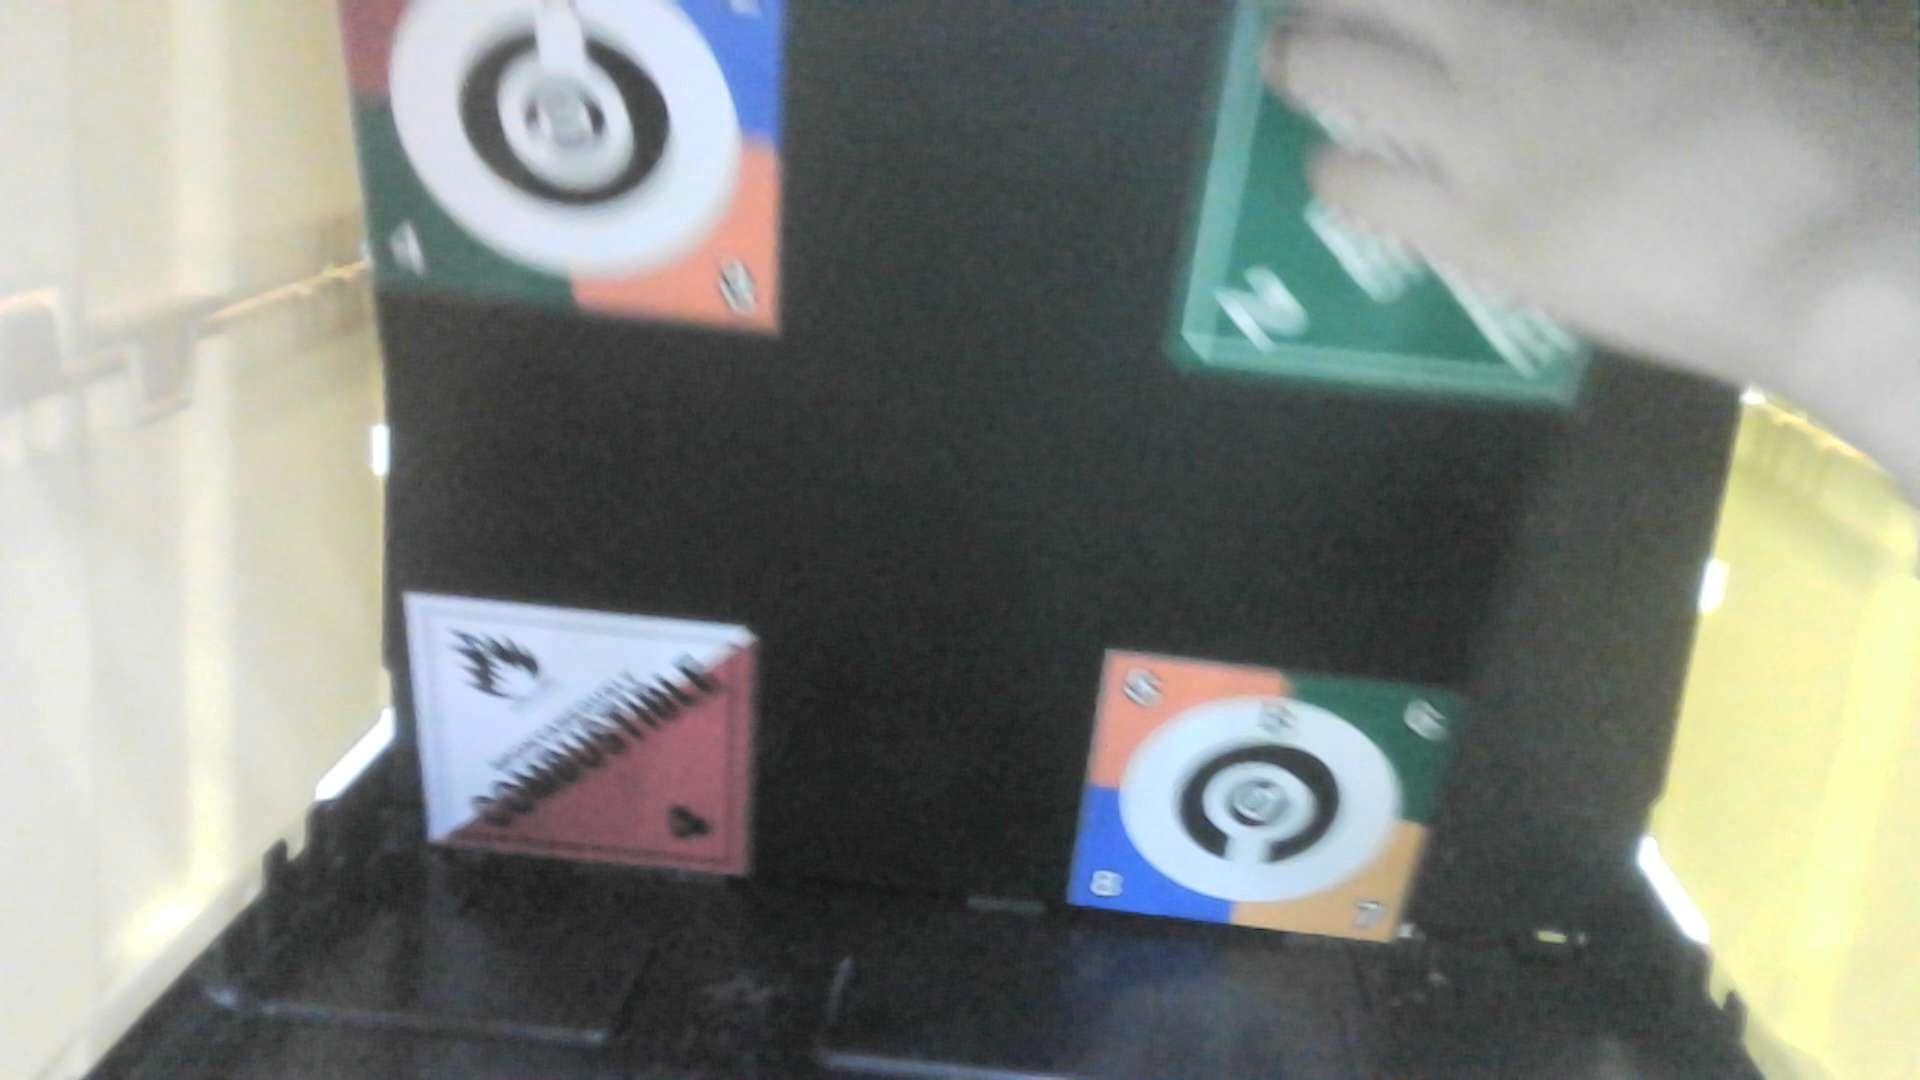non-flammable-gas: (1146, 5, 1691, 423)
spontaneously-combustible: (357, 564, 796, 902)
